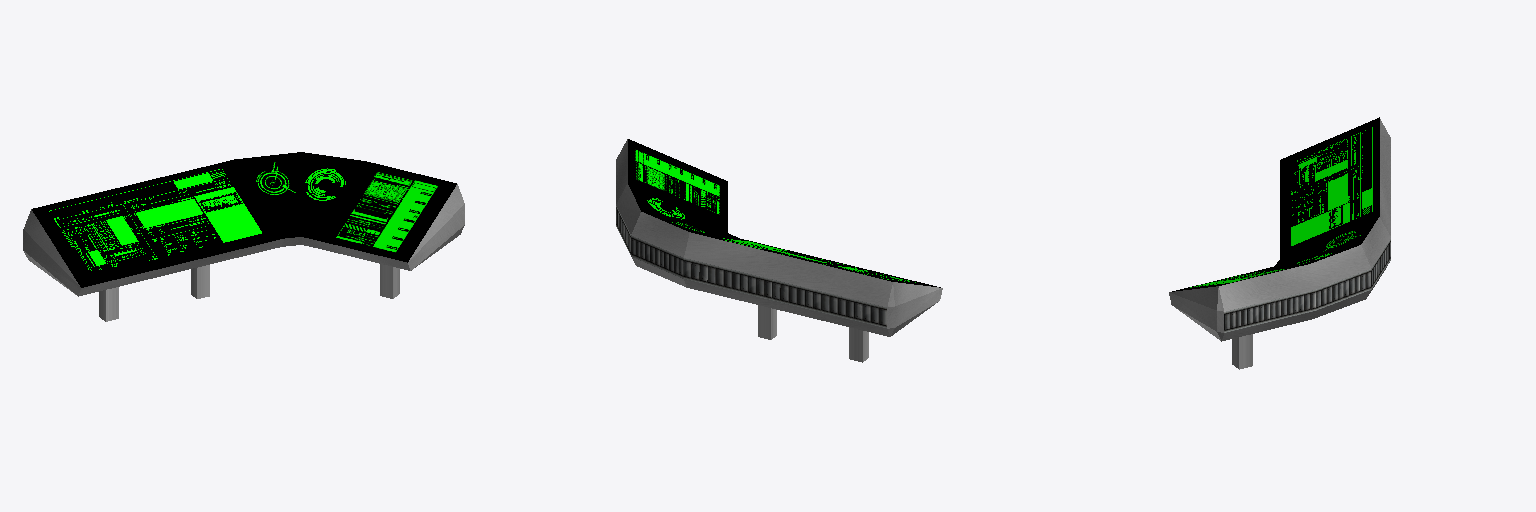
3 renders of one model, left to right at view 1: azimuth 30°, elevation 25°; view 2: azimuth 150°, elevation 25°; view 3: azimuth 270°, elevation 25°, orthographic.
Parts seen in each view (by area): view 1: skin; view 2: skin; view 3: skin.
Boxes of the visible parts, x1=… form: skin: x1=23, y1=152, x2=464, y2=321; skin: x1=616, y1=139, x2=942, y2=362; skin: x1=1169, y1=117, x2=1390, y2=369.
Bounding box in the file's own units: 7.07 × 2 × 3.79.
Materials: 1 (1 with a texture image).